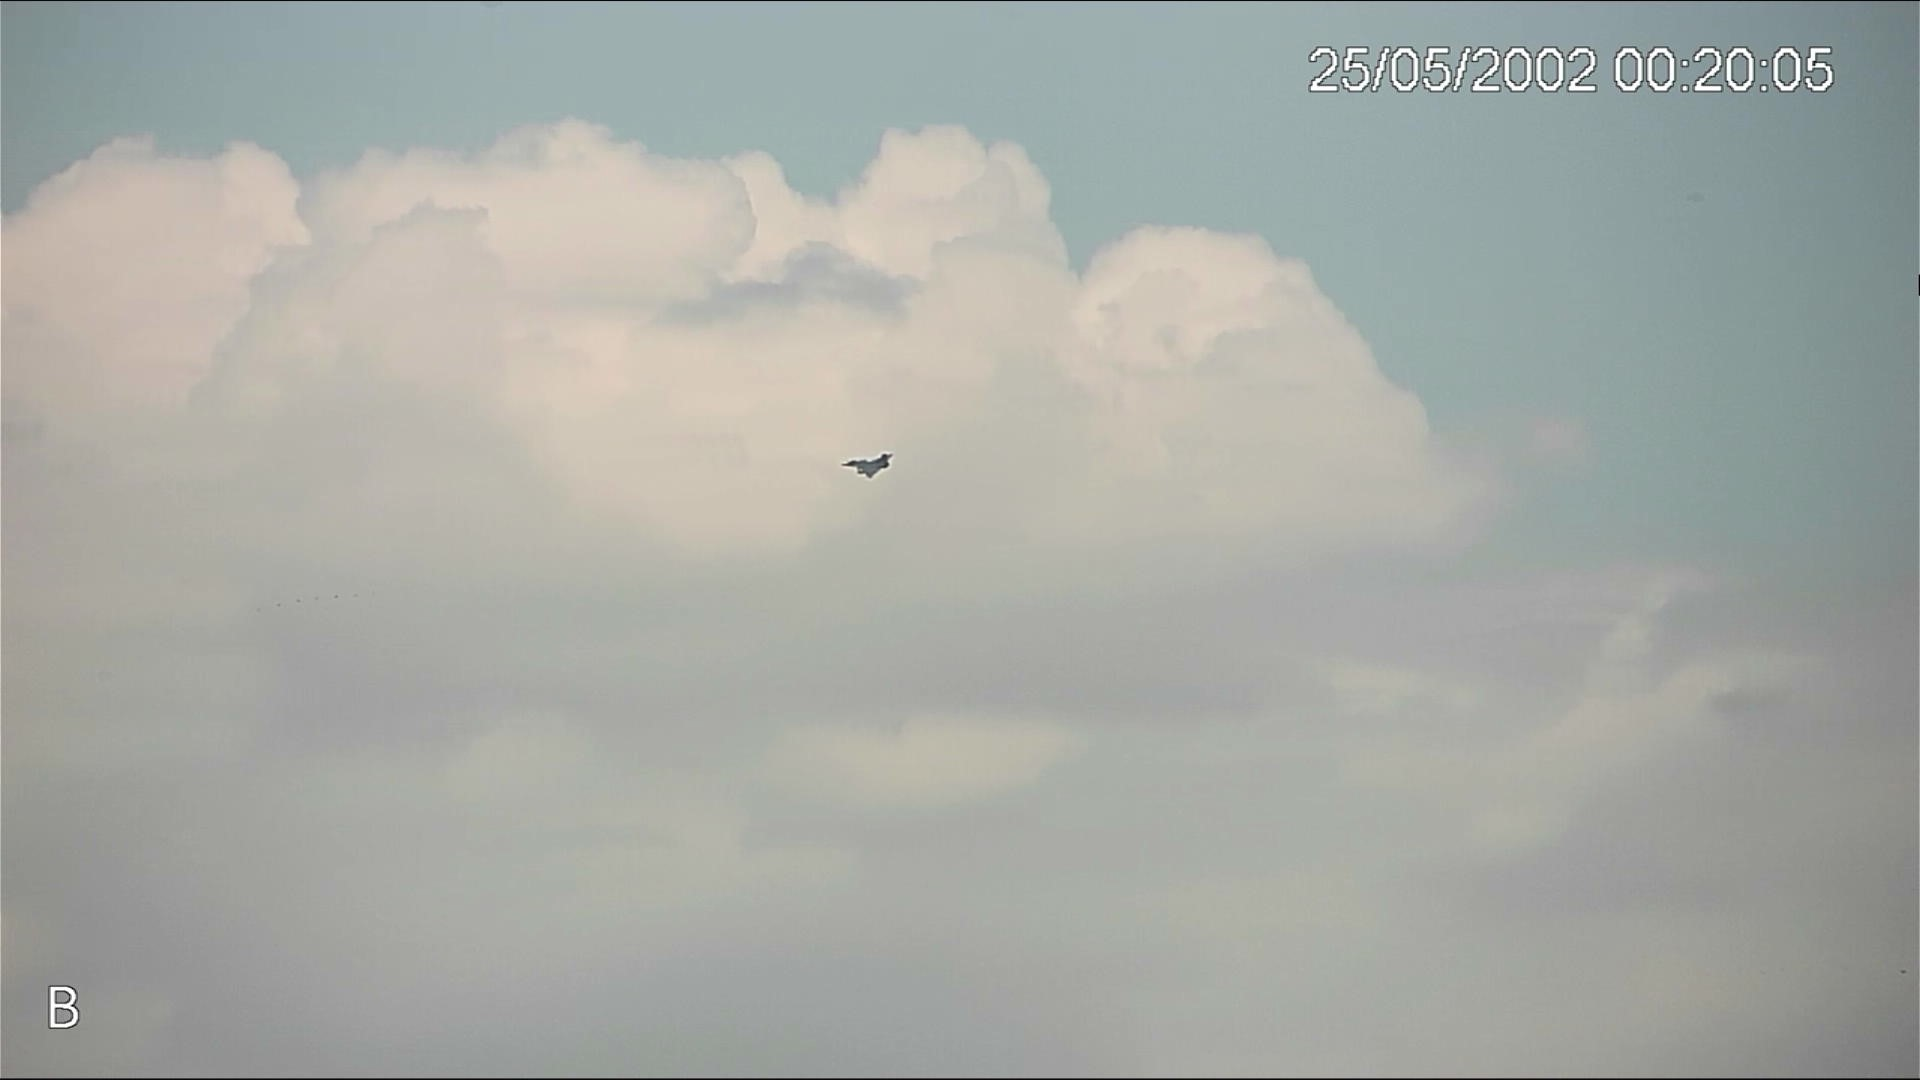SU_30: (844, 454, 902, 479)
